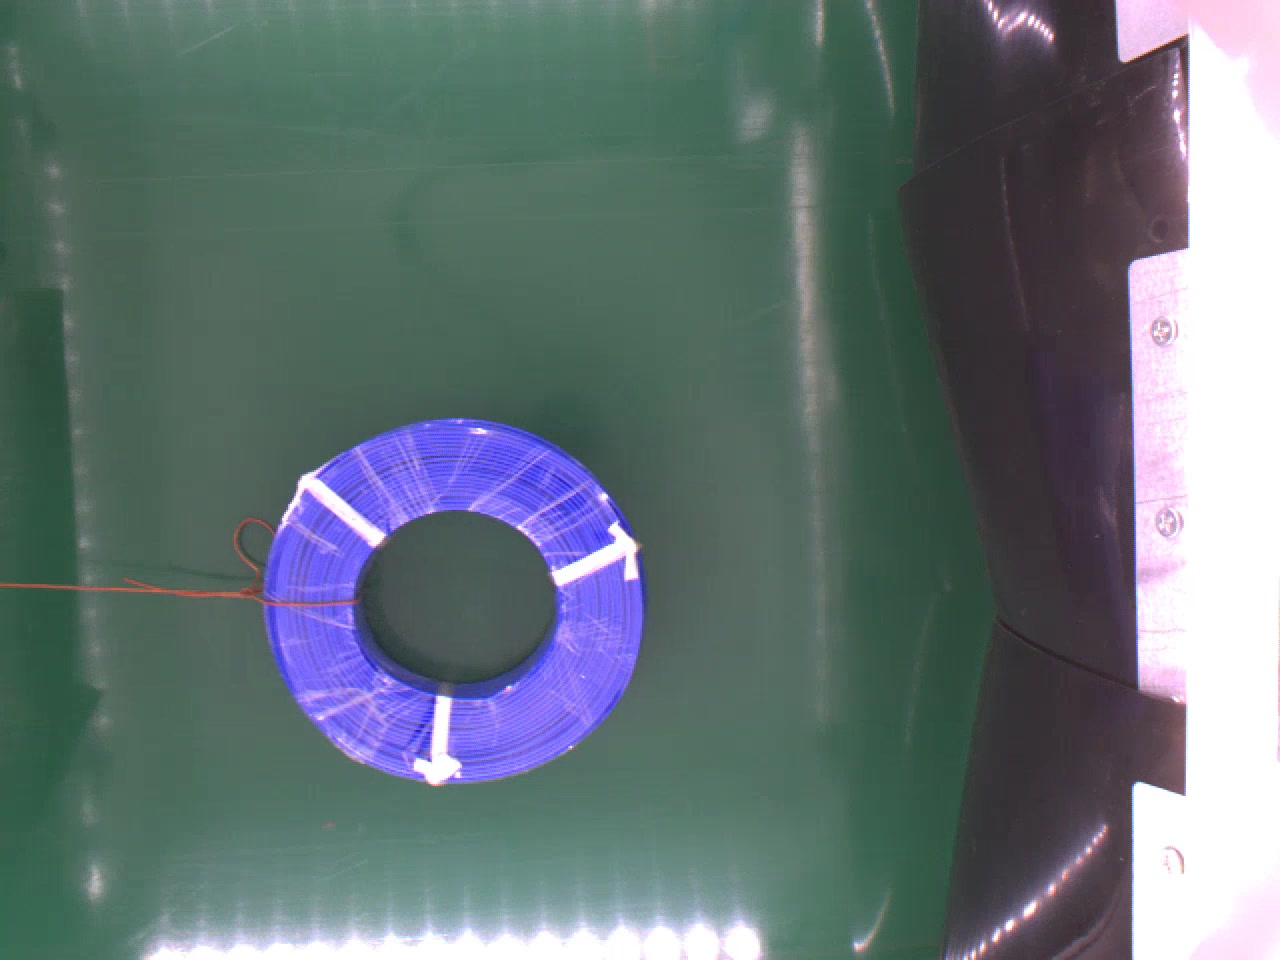blue: (262, 418, 645, 790)
